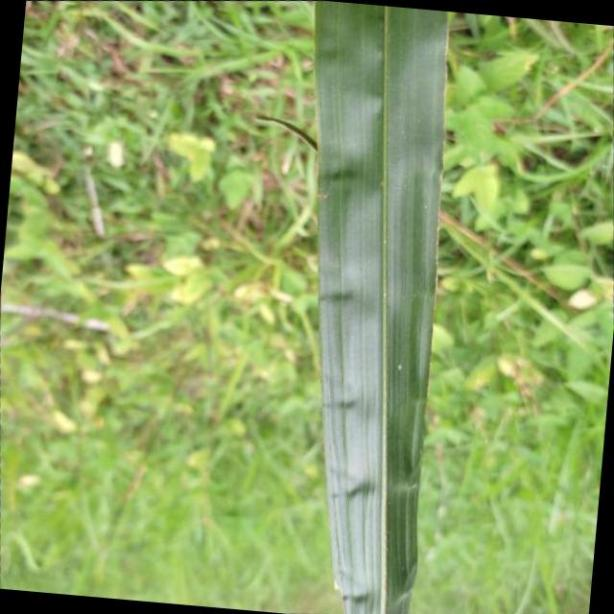Boron: (312, 0, 446, 614)
